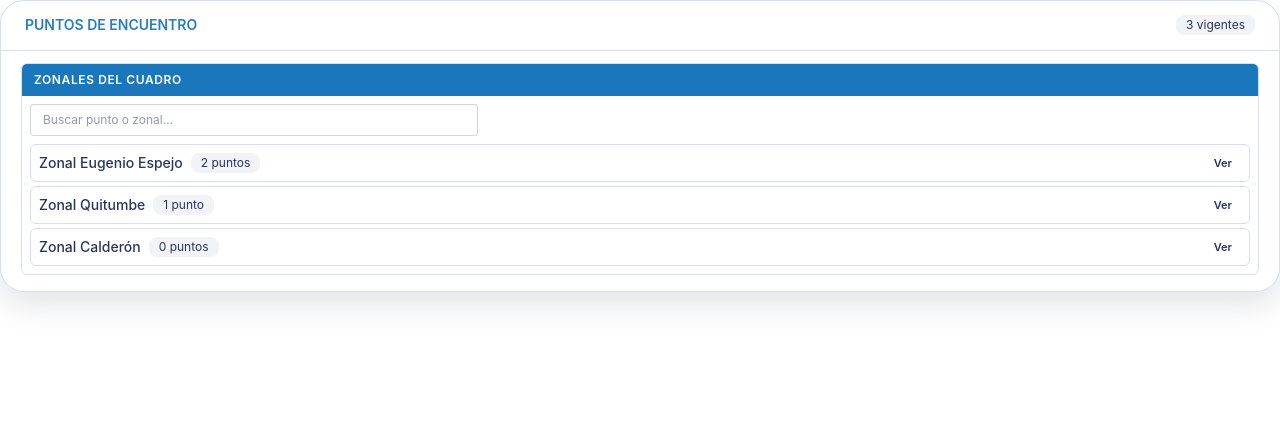
Test: la búsqueda › por zonal muestra la zonal entera
# Sin tildes ni mayúsculas: quien busca escribe deprisa.
In the search field labelled "Buscar punto o zonal": coordinates (254, 120) [30,104,478,136], type "eugenio"
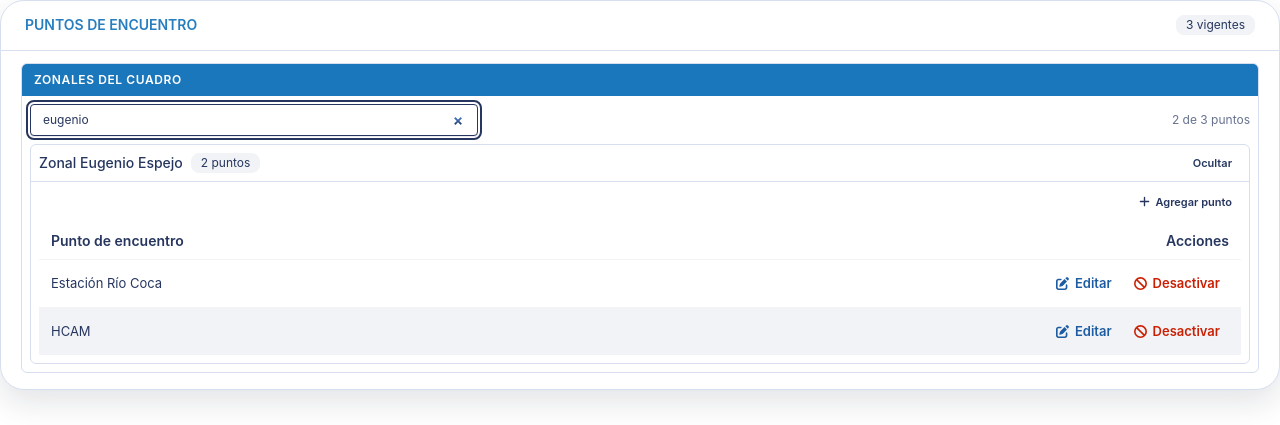
expect the text "HCAM" is shown: met, box [39,308,558,355]
expect the text "Estación Río Coca" is shown: met, box [39,260,558,308]
